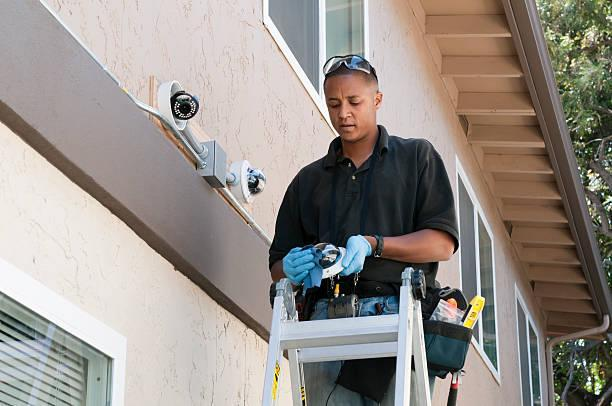camera: (161, 76, 209, 131)
